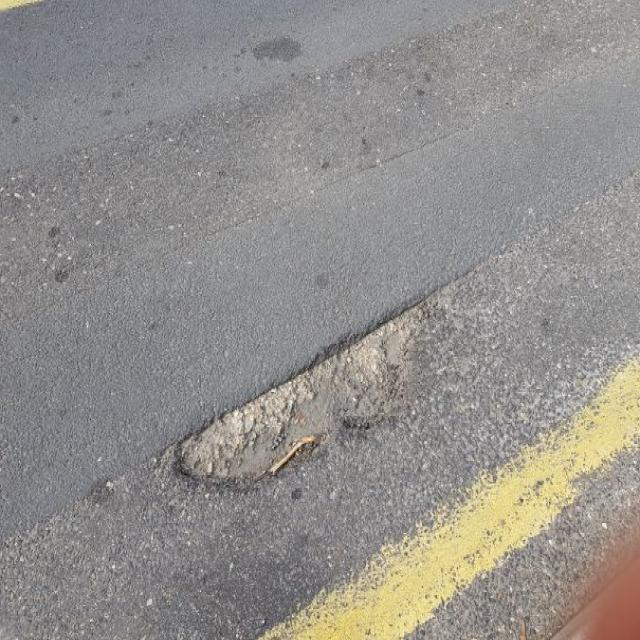Pothole: (170, 284, 461, 493)
